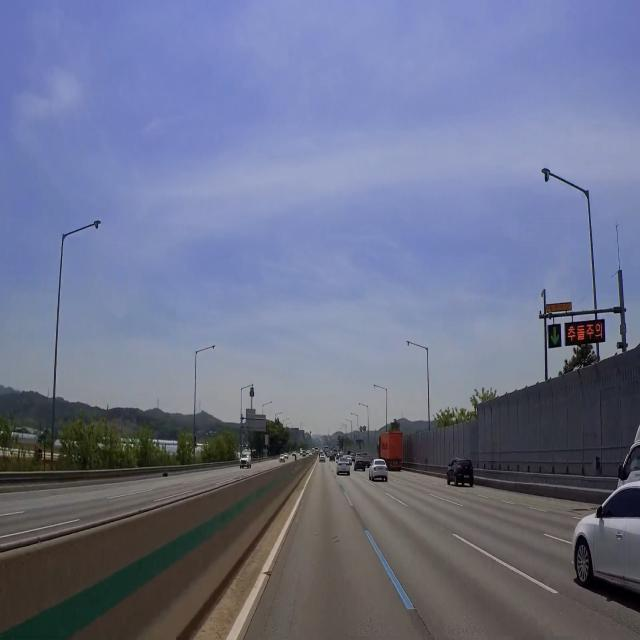car: (462, 472, 472, 483)
